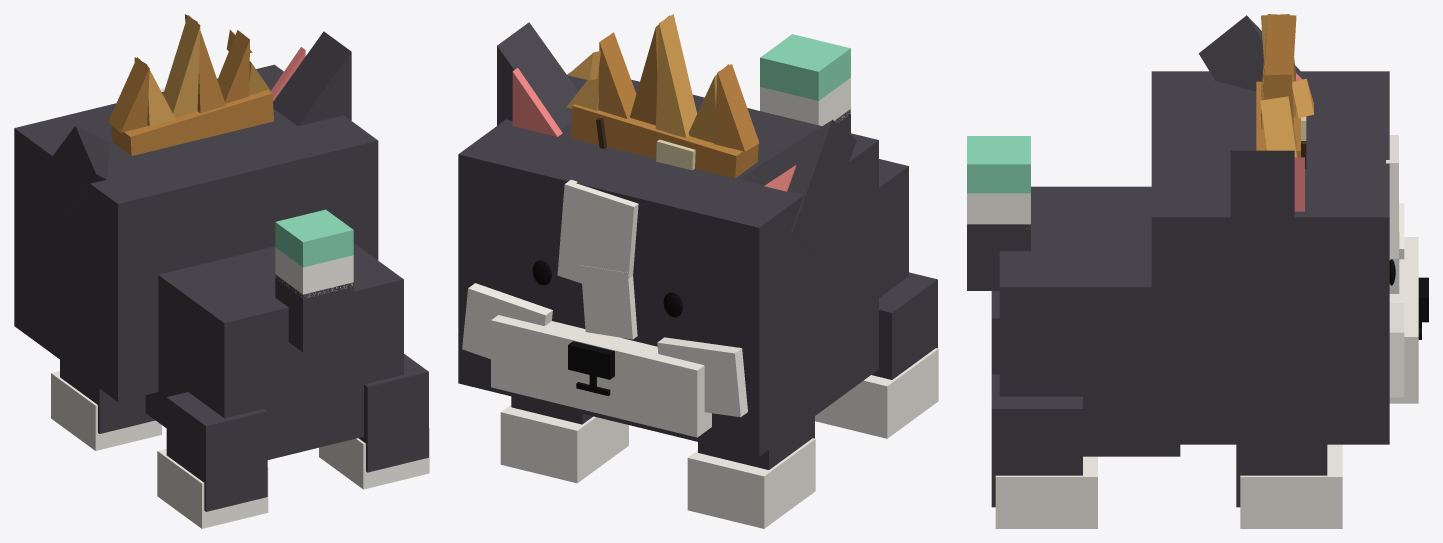
The model's file is BorderCollie_Block.glb.
3 views of the same model, side by side, from view 1: azimuth 30°, elevation 25°; view 2: azimuth 150°, elevation 25°; view 3: azimuth 270°, elevation 25° (orthographic). The views are drawn at different scales.
Parts seen in each view (by area): view 1: BigHead, ShortTorso, LegBL_Leg, LegBR_Leg, UprightEarR, CrownBand, TailRoot, FoldedEarL, LegBL_Paw, TailMintTip, LegFL_Paw, LegBR_Paw (+8 smaller); view 2: BigHead, WhiteMuzzle, LegFL_Paw, LegFR_Paw, WhiteBlazeUpper, FoldedEarL, LegBL_Paw, LegBL_Leg, CrownBand, UprightEarR, TailMintTip, WhiteCheekL (+16 smaller); view 3: BigHead, ShortTorso, UprightEarR, LegBR_Leg, LegFR_Paw, LegBR_Paw, TailMintTip, FoldedEarL, LegFR_Leg, TailRoot, WhiteMuzzle, TailWhiteBand (+9 smaller).
Boxes of the visible parts, bbox=[...] form: BigHead: bbox=[14, 64, 378, 401]; ShortTorso: bbox=[145, 243, 403, 459]; LegBL_Leg: bbox=[166, 392, 267, 511]; LegBR_Leg: bbox=[358, 354, 428, 472]; UprightEarR: bbox=[273, 31, 351, 126]; CrownBand: bbox=[111, 90, 273, 155]; TailRoot: bbox=[275, 274, 353, 352]; FoldedEarL: bbox=[40, 126, 109, 220]; LegBL_Paw: bbox=[157, 449, 268, 528]; TailMintTip: bbox=[275, 209, 353, 267]; LegFL_Paw: bbox=[51, 371, 161, 450]; LegBR_Paw: bbox=[319, 428, 429, 489]; BigHead: bbox=[458, 72, 878, 456]; WhiteMuzzle: bbox=[491, 315, 711, 437]; LegFL_Paw: bbox=[687, 438, 815, 528]; LegFR_Paw: bbox=[500, 405, 628, 483]; WhiteBlazeUpper: bbox=[557, 179, 638, 283]; FoldedEarL: bbox=[739, 119, 856, 253]; LegBL_Paw: bbox=[815, 348, 938, 438]; LegBL_Leg: bbox=[871, 272, 937, 379]; CrownBand: bbox=[570, 104, 758, 178]; UprightEarR: bbox=[497, 22, 578, 130]; TailMintTip: bbox=[760, 34, 850, 100]; WhiteCheekL: bbox=[657, 337, 747, 417]; BigHead: bbox=[1151, 71, 1389, 444]; ShortTorso: bbox=[999, 186, 1180, 456]; UprightEarR: bbox=[1230, 150, 1294, 273]; LegBR_Leg: bbox=[991, 374, 1082, 507]; LegFR_Paw: bbox=[1240, 444, 1342, 528]; LegBR_Paw: bbox=[995, 456, 1097, 528]; TailMintTip: bbox=[967, 136, 1030, 193]; FoldedEarL: bbox=[1199, 15, 1300, 91]; LegFR_Leg: bbox=[1236, 444, 1327, 507]; TailRoot: bbox=[967, 224, 1030, 290]; WhiteMuzzle: bbox=[1389, 237, 1418, 403]; TailWhiteBand: bbox=[967, 193, 1030, 228].
Bounding box in the file's own units: 2.24 × 3.11 × 2.89.
